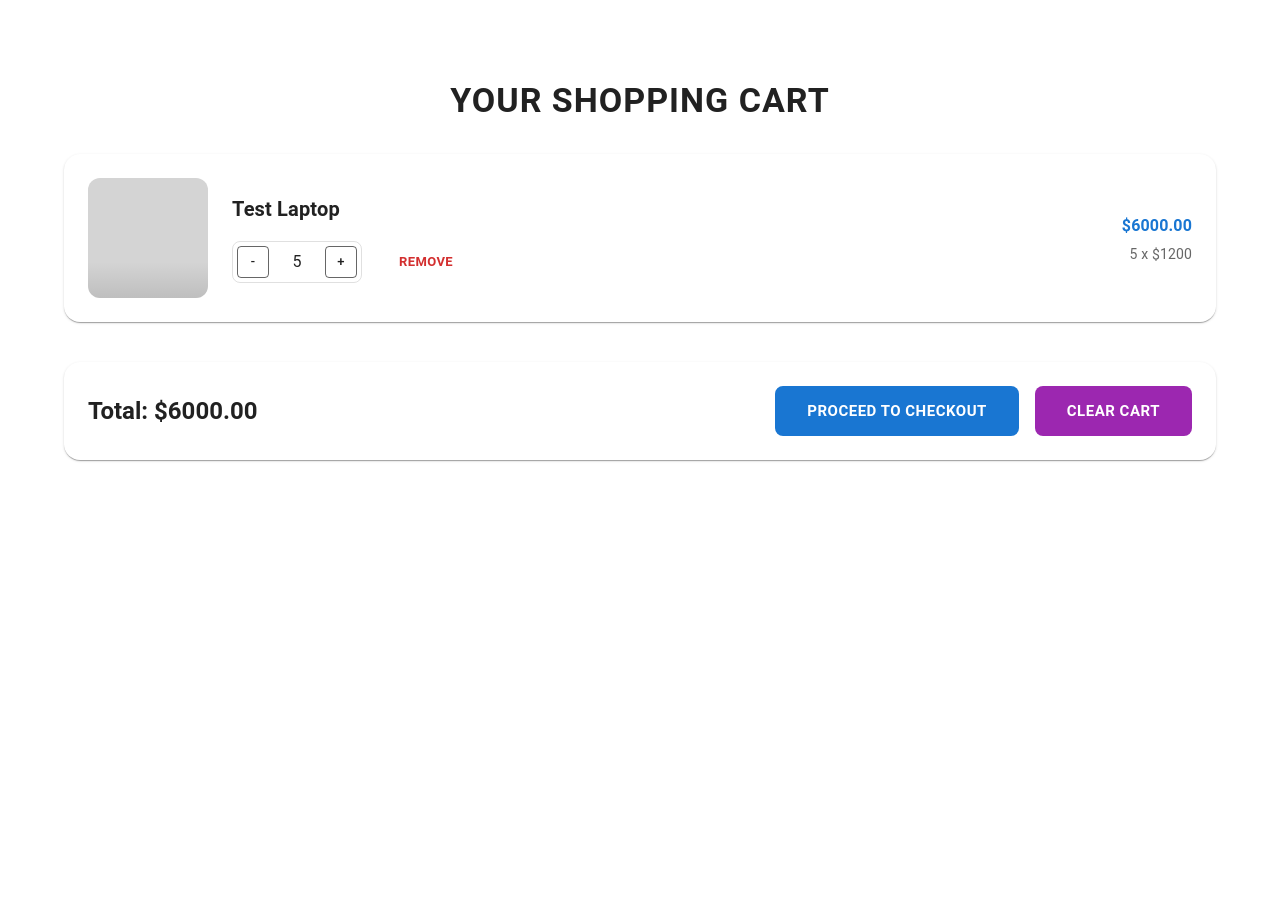
CartPage › refuses to go past the stock ceiling
Expected: the heading "Test Laptop" is shown, [232, 197, 340, 221]
Click the button "+" at (341, 262), box [325, 246, 357, 278]
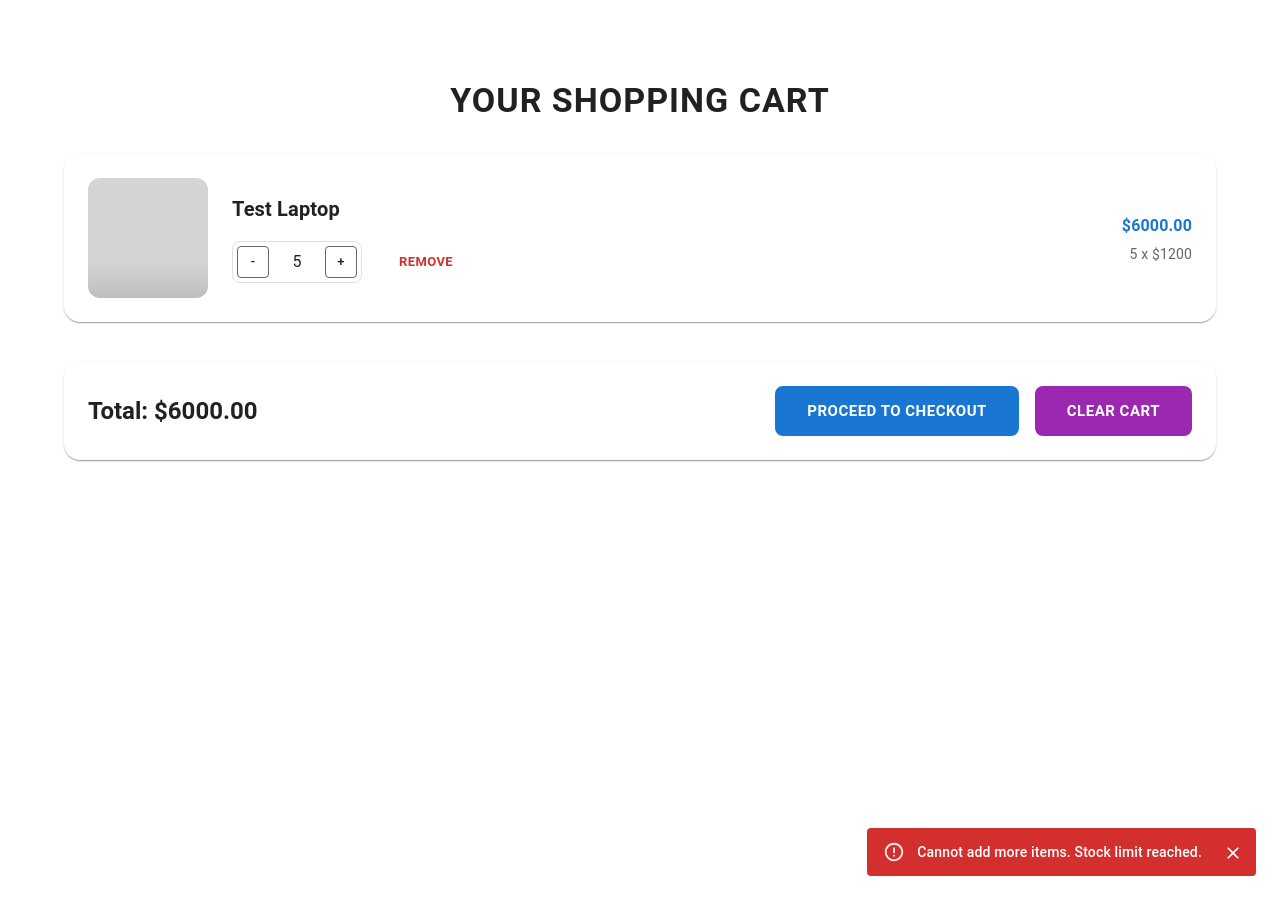
Result: the text "Cannot add more items. Stock limit reached." is shown at [917, 844, 1202, 860]
